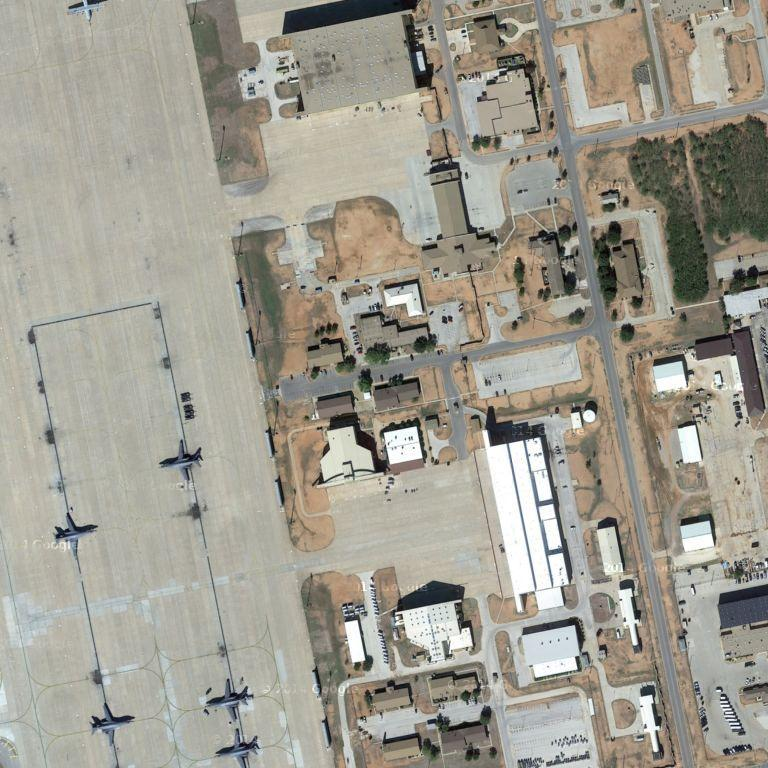B-1B: (202, 676, 256, 724), (83, 698, 138, 745), (209, 726, 268, 766), (153, 439, 206, 483), (46, 513, 101, 551)
C-130: (62, 1, 108, 22)
